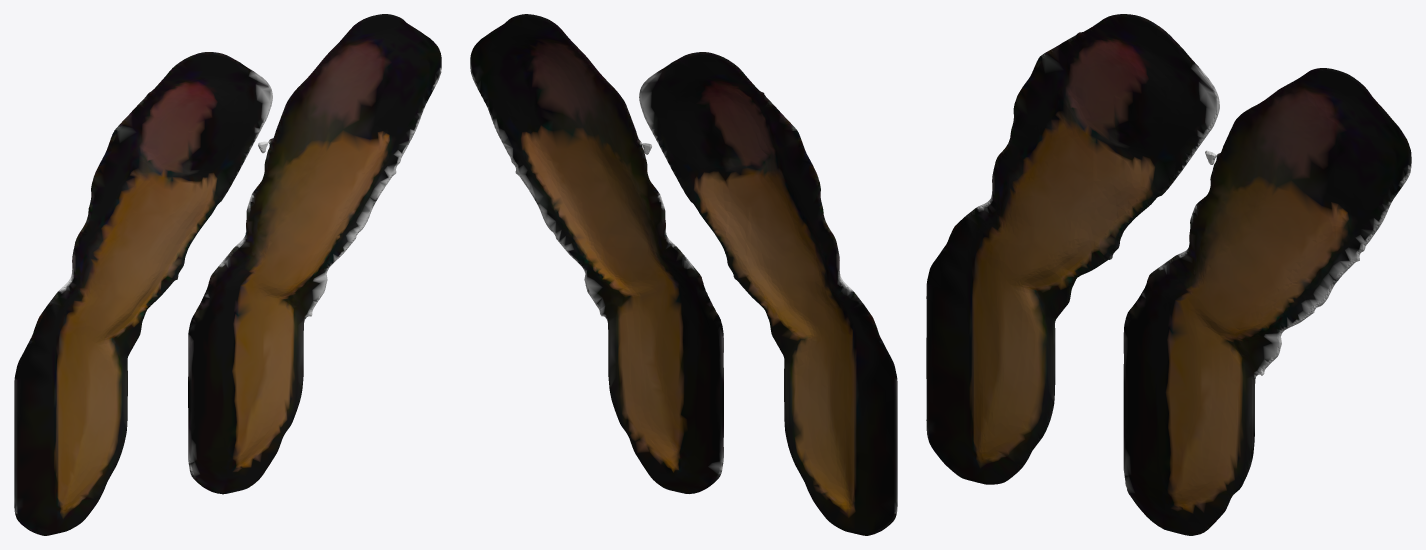
File: high_boots.glb
The picture shows the model from 3 angles, left to right: view 1: azimuth 30°, elevation 25°; view 2: azimuth 150°, elevation 25°; view 3: azimuth 330°, elevation 25°; orthographic projection. The views are drawn at different scales.
Visible parts, largest first — view 1: geometry_0; view 2: geometry_0; view 3: geometry_0.
Part boxes in pixels (<box>): geometry_0: <box>14,14,441,535</box>; geometry_0: <box>470,14,897,535</box>; geometry_0: <box>926,14,1411,535</box>.
Size of the model in its own units: 0.6875 by 0.6876 by 0.0176.
